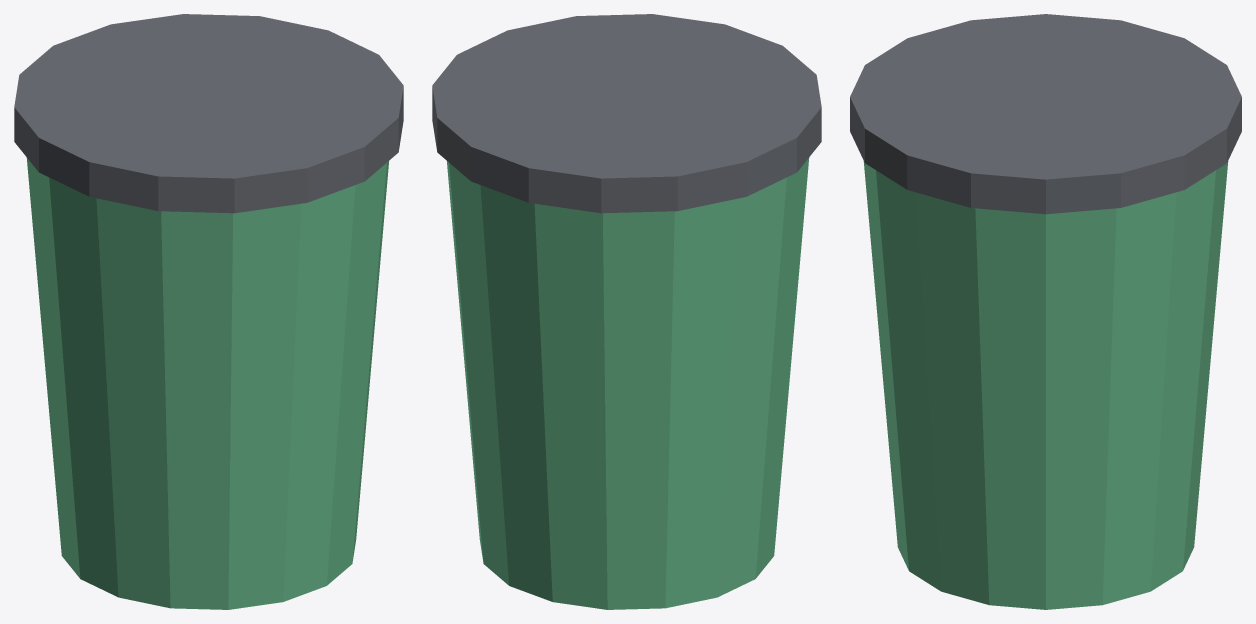
Rendered from Prop_Dustbin_Green.glb.
3 renders of one model, left to right at view 1: azimuth 30°, elevation 25°; view 2: azimuth 150°, elevation 25°; view 3: azimuth 270°, elevation 25°, orthographic.
Visible parts, largest first — view 1: Body, Rim; view 2: Body, Rim; view 3: Body, Rim.
Part boxes in pixels (left/top/right/bottom): Body: left=26, top=157, right=388, bottom=609; Rim: left=14, top=14, right=403, bottom=213; Body: left=447, top=157, right=809, bottom=609; Rim: left=432, top=14, right=821, bottom=213; Body: left=863, top=161, right=1228, bottom=609; Rim: left=850, top=14, right=1241, bottom=214.
Size of the model in its own units: 0.41 by 0.52 by 0.41.
